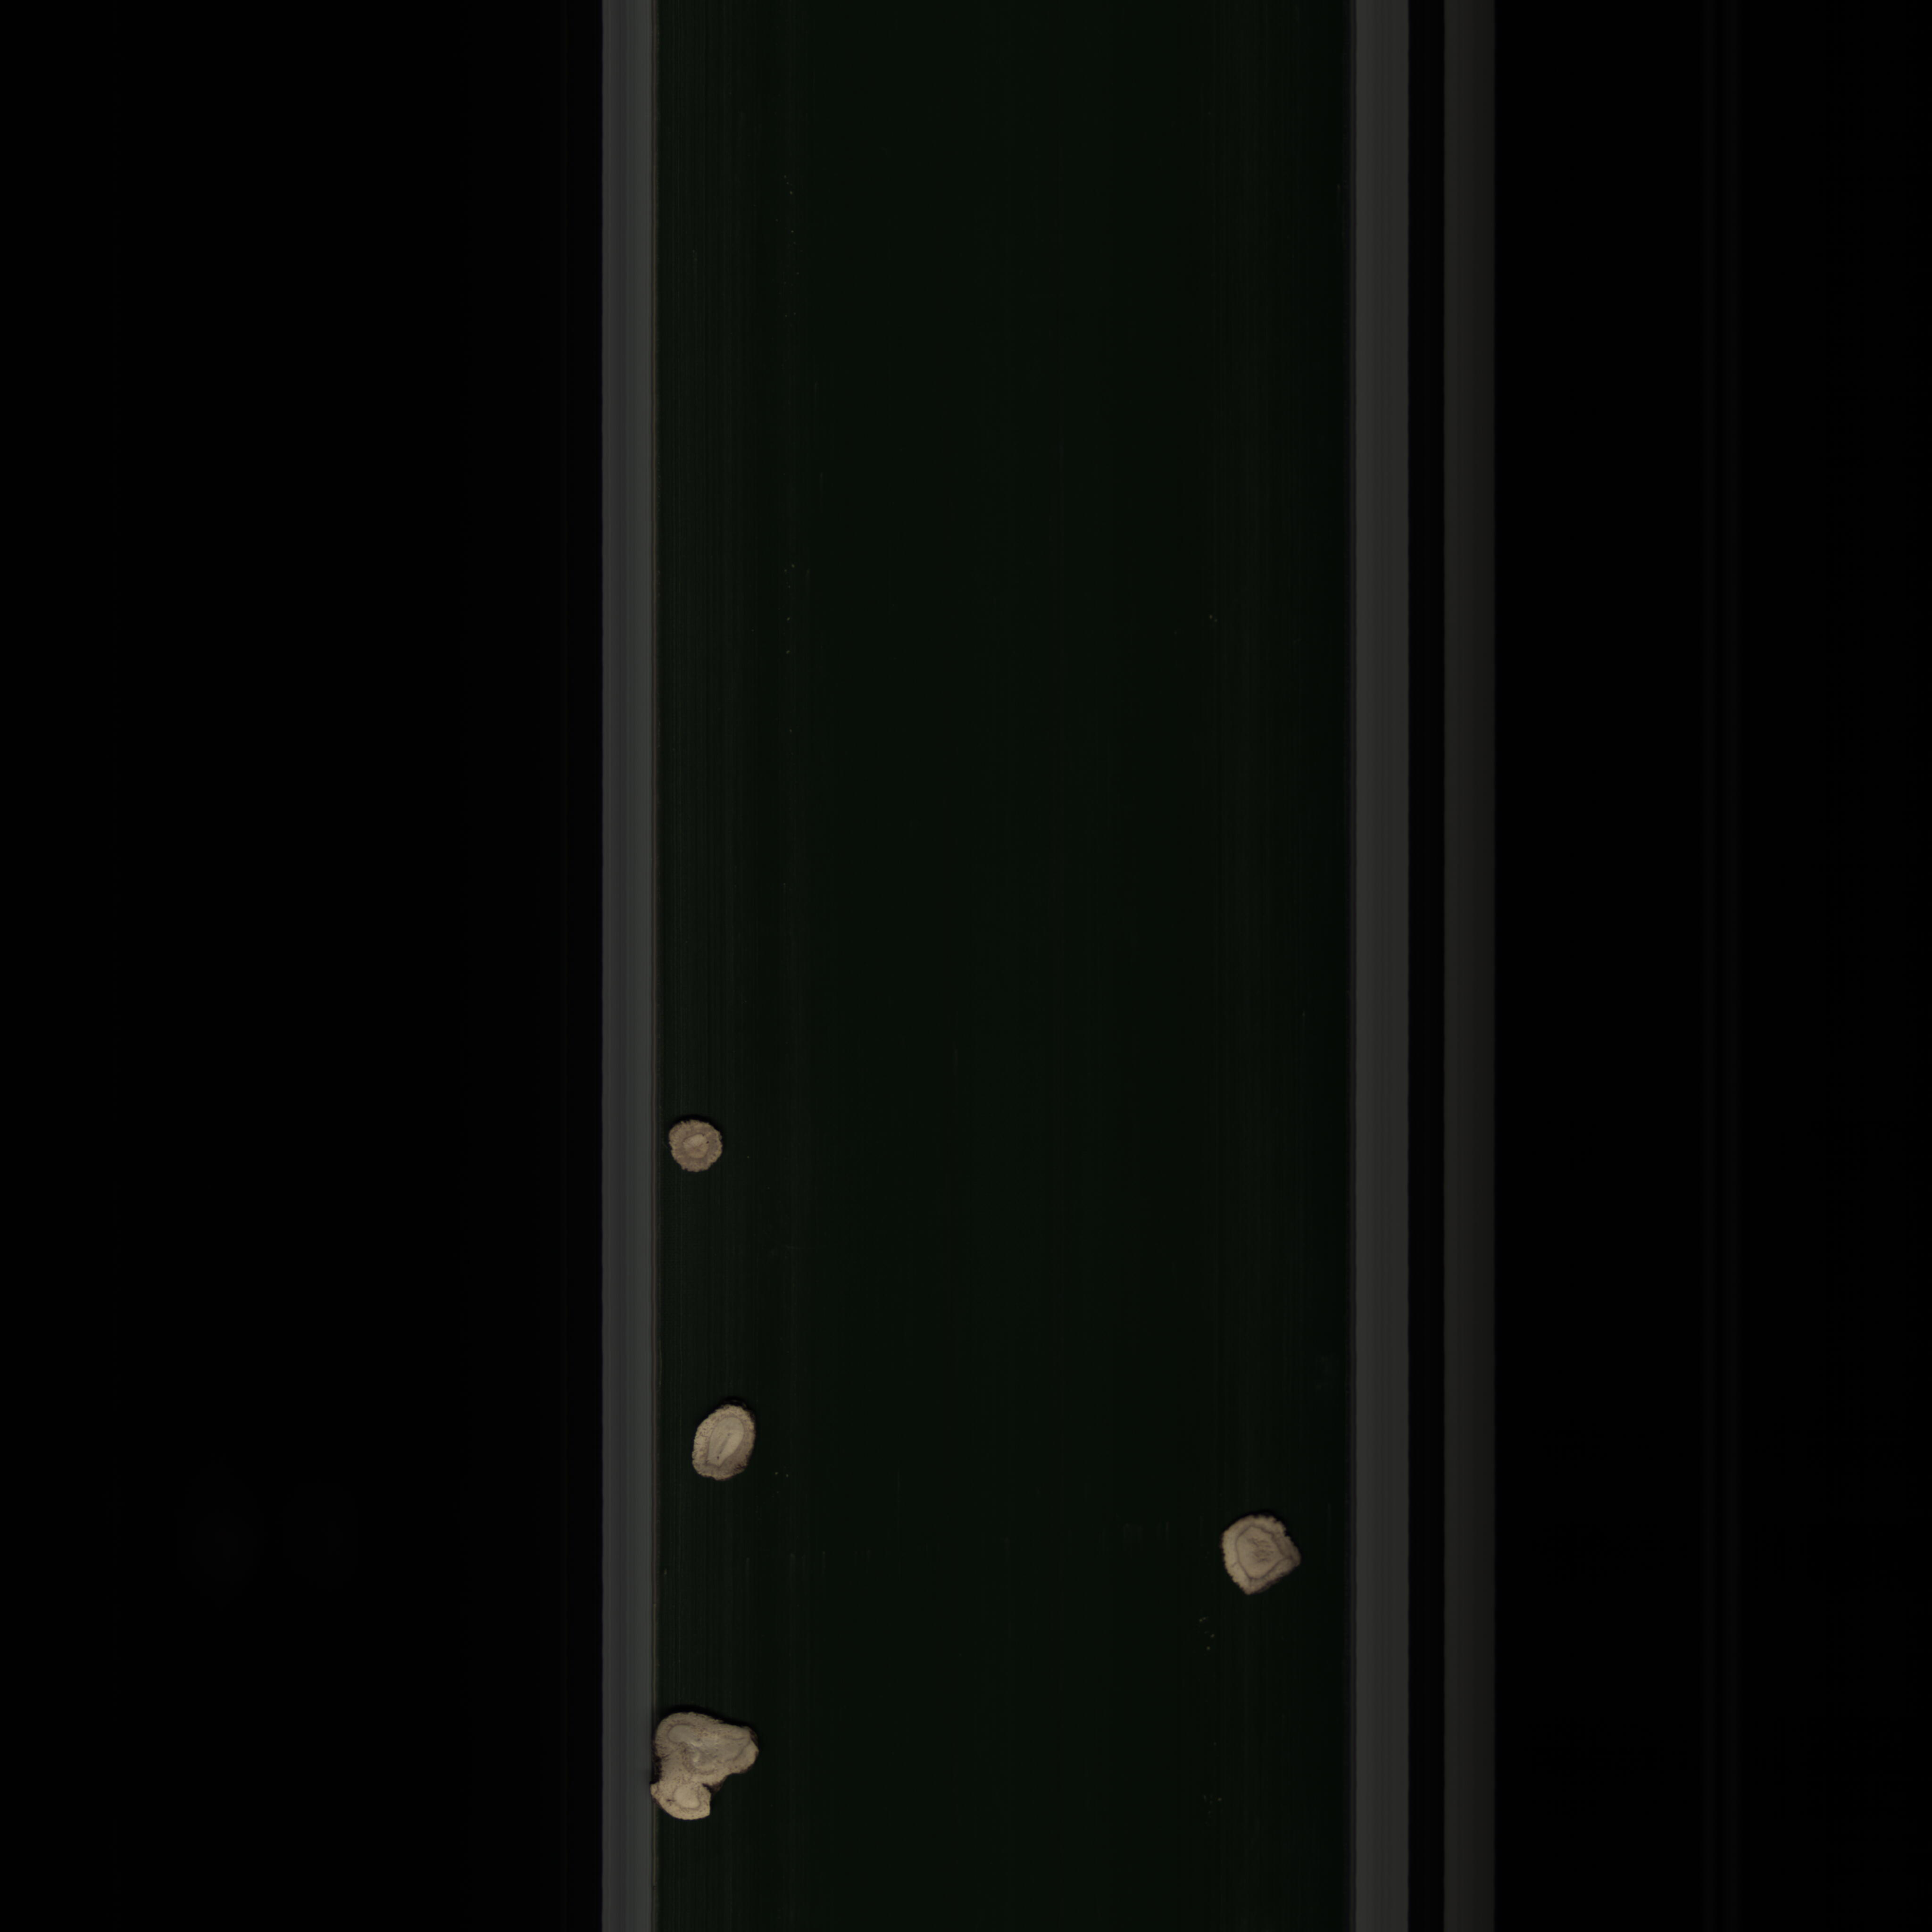distortion: (642, 1702, 777, 1835)
moldy: (1214, 1507, 1309, 1606), (662, 1106, 729, 1177)
